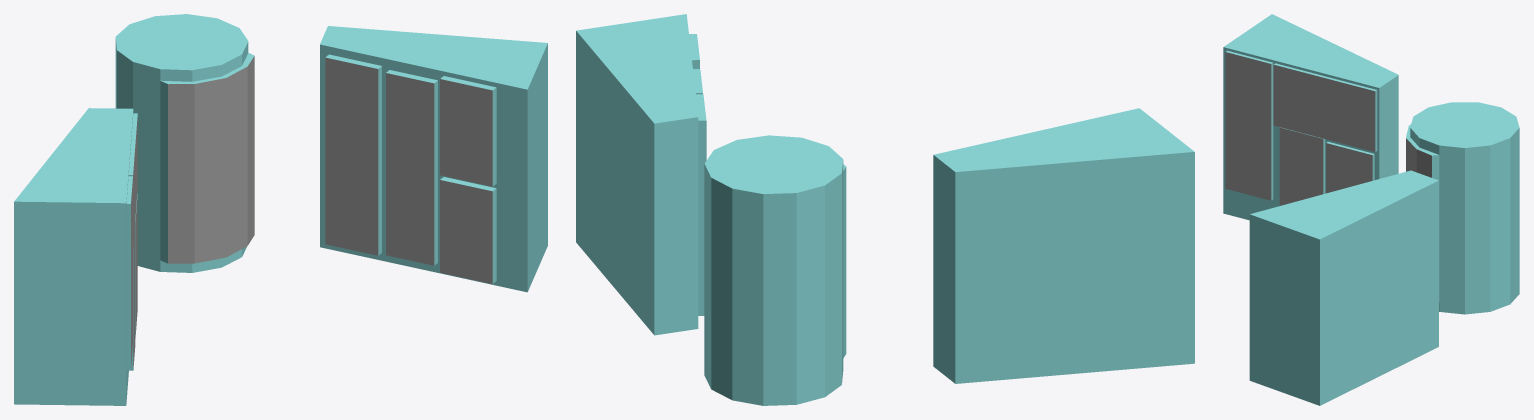
File: Screens export.fbx
3 views of the same model, side by side, from view 1: azimuth 30°, elevation 25°; view 2: azimuth 150°, elevation 25°; view 3: azimuth 270°, elevation 25° (orthographic). The views are drawn at different scales.
Parts seen in each view (by area): view 1: pCube3; view 2: pCube3; view 3: pCube3.
Boxes of the visible parts, <box> form: pCube3: <box>14,14,547,405</box>; pCube3: <box>576,14,1194,405</box>; pCube3: <box>1223,14,1519,405</box>.
Size of the model in its own units: 29.06 by 10.2 by 16.13.
